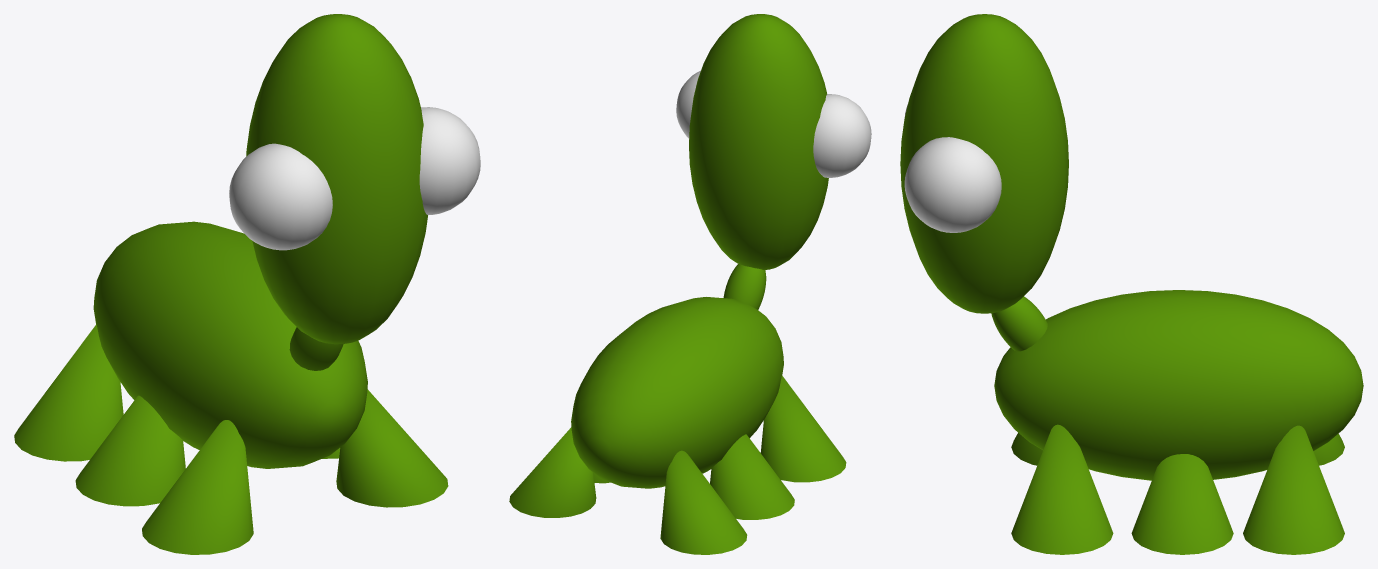
File: hopper.fbx
3 renders of one model, left to right at view 1: azimuth 30°, elevation 25°; view 2: azimuth 150°, elevation 25°; view 3: azimuth 270°, elevation 25°, orthographic. The views are drawn at different scales.
Visible parts, largest first — view 1: pSphere5, pSphere3, pCone1, pSphere1, pCone6, pCone4, pCone2, pSphere6, pSphere4; view 2: pSphere5, pSphere3, pCone6, pCone1, pCone5, pCone4, pSphere1, pSphere4, pSphere6; view 3: pSphere5, pSphere3, pCone2, pCone5, pCone3, pSphere6, pSphere4, pCone1, pCone6.
Part boxes in pixels (x1,y1,x2,y2): pSphere5: (93, 221, 367, 468); pSphere3: (246, 14, 427, 344); pCone1: (142, 420, 253, 554); pSphere1: (229, 143, 332, 250); pCone6: (14, 324, 123, 461); pCone4: (75, 395, 185, 506); pCone2: (336, 389, 448, 507); pSphere6: (419, 107, 480, 214); pSphere4: (289, 327, 343, 370); pSphere5: (571, 297, 783, 488); pSphere3: (689, 14, 828, 269); pCone6: (660, 450, 747, 554); pCone1: (760, 375, 846, 482); pCone5: (509, 427, 596, 517); pCone4: (710, 434, 794, 519); pSphere1: (813, 94, 871, 177); pSphere4: (723, 264, 766, 309); pSphere6: (676, 70, 700, 138); pSphere5: (994, 290, 1363, 480); pSphere3: (900, 14, 1068, 313); pCone2: (1011, 424, 1113, 554); pCone5: (1243, 425, 1344, 554); pCone3: (1131, 454, 1233, 554); pSphere6: (904, 137, 1001, 232); pSphere4: (991, 296, 1047, 351); pCone1: (1011, 433, 1042, 465); pCone6: (1313, 434, 1344, 465).
Bounding box in the file's own units: 6.46 × 11.01 × 9.78.
